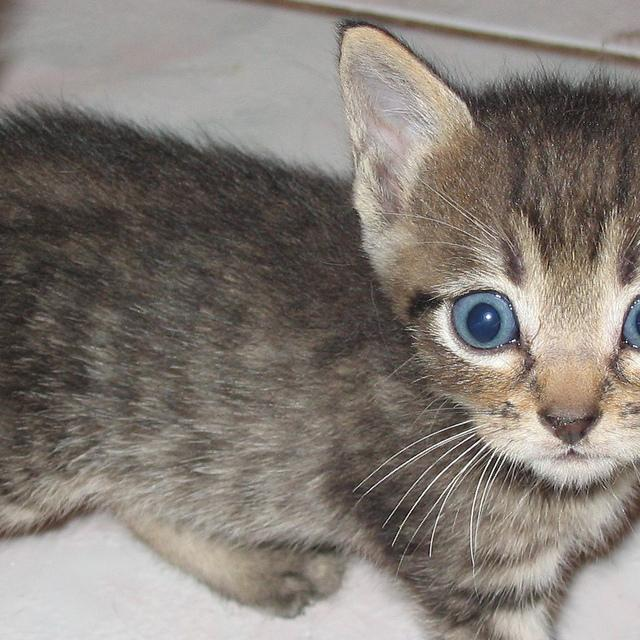animals: (352, 31, 640, 438)
